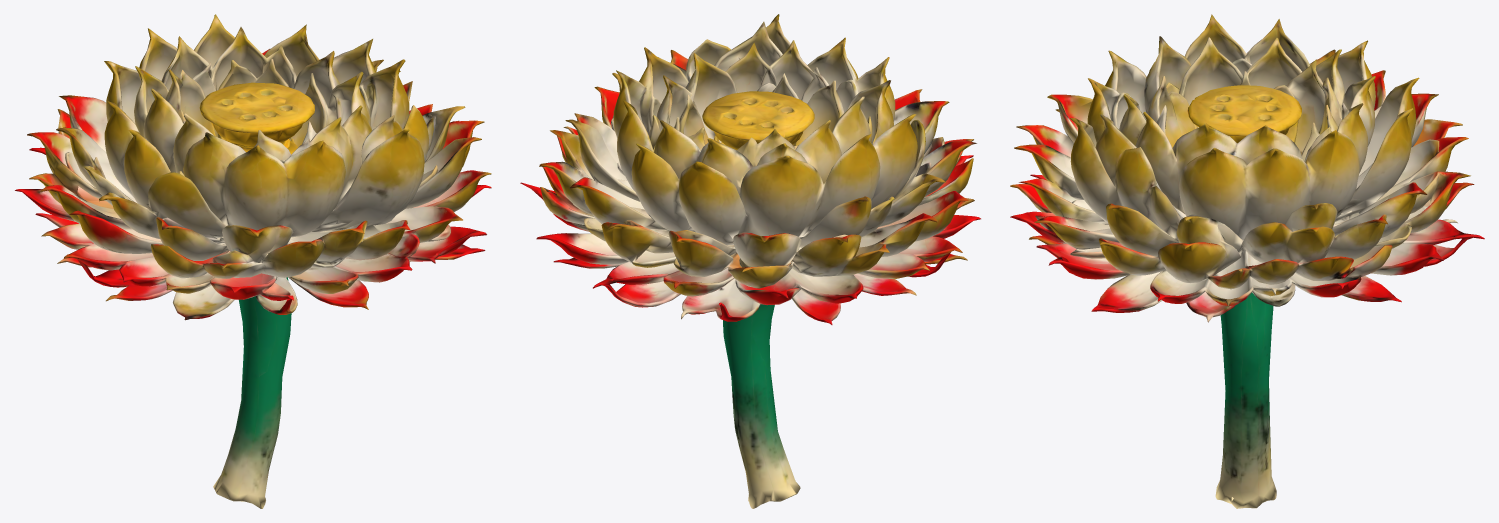
Rendered from taiyijinlian.glb.
3 views of the same model, side by side, from view 1: azimuth 30°, elevation 25°; view 2: azimuth 150°, elevation 25°; view 3: azimuth 270°, elevation 25° (orthographic). The views are drawn at different scales.
Parts seen in each view (by area): view 1: node_0; view 2: node_0; view 3: node_0.
Part boxes in pixels (x1,y1,x2,y2): node_0: (15, 14, 491, 508); node_0: (520, 14, 980, 508); node_0: (1010, 14, 1484, 508).
Size of the model in its own units: 0.9322 by 0.9322 by 0.943.
1 material, 1 textured.
